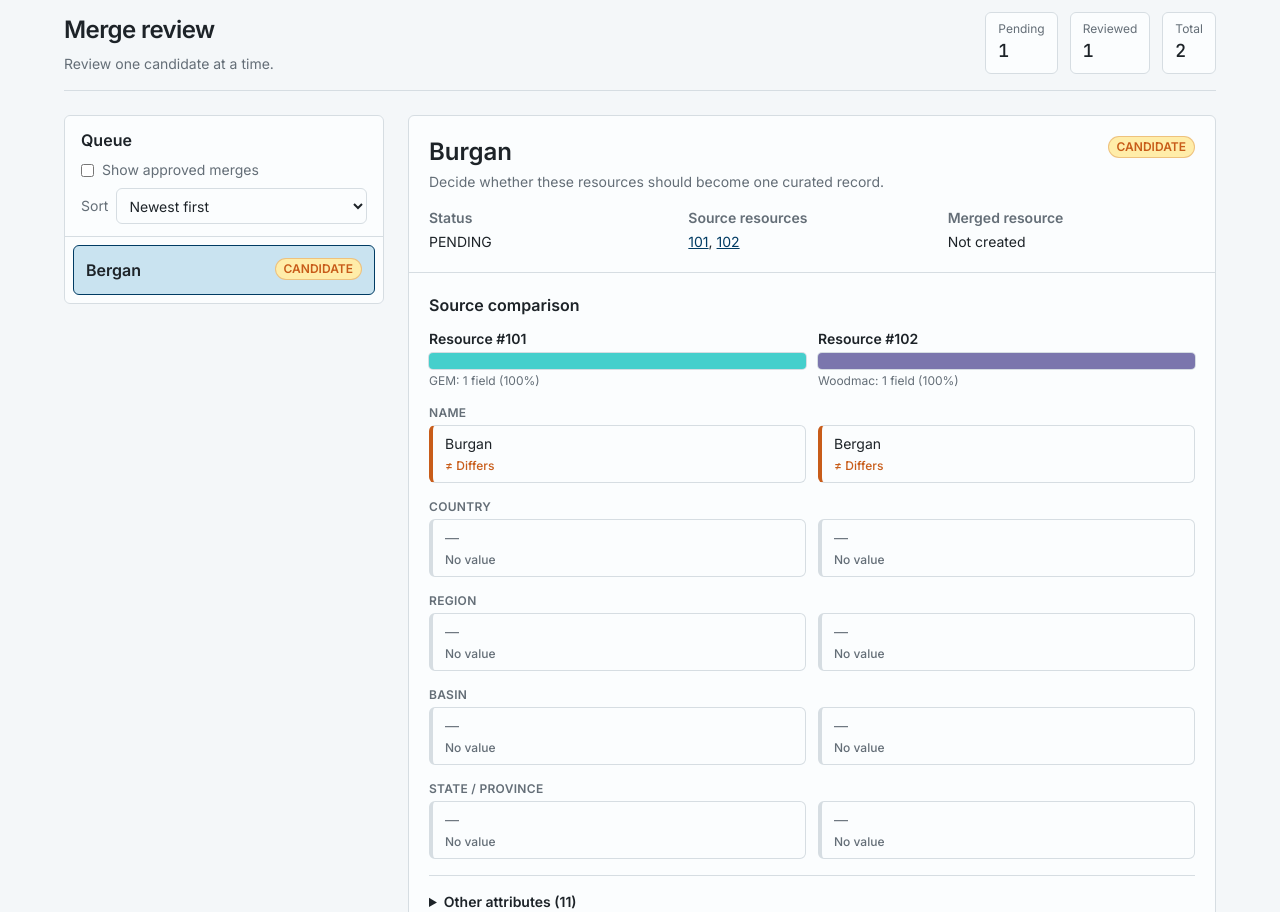
Test case: MergeCandidateReviewPage › labels a pending item's status badge "CANDIDATE" instead of "PENDING"
Expected: the text "CANDIDATE" below "Sort" is shown, [284,261,353,276]
Click the checkbox labelled "Show approved merges" at (88, 170), box [81,164,94,176]
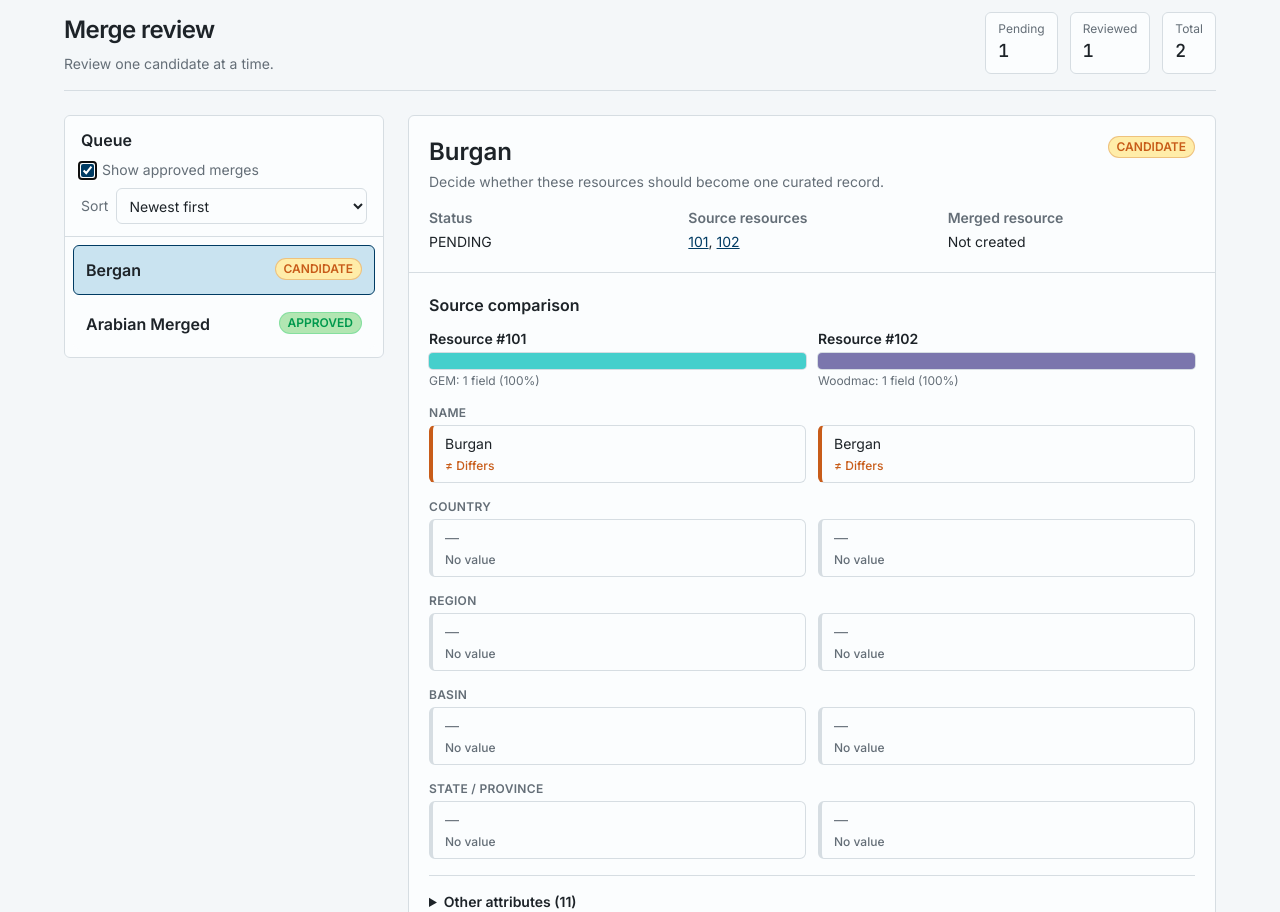
Expected: the text "APPROVED" is shown, [278,312,362,334]
